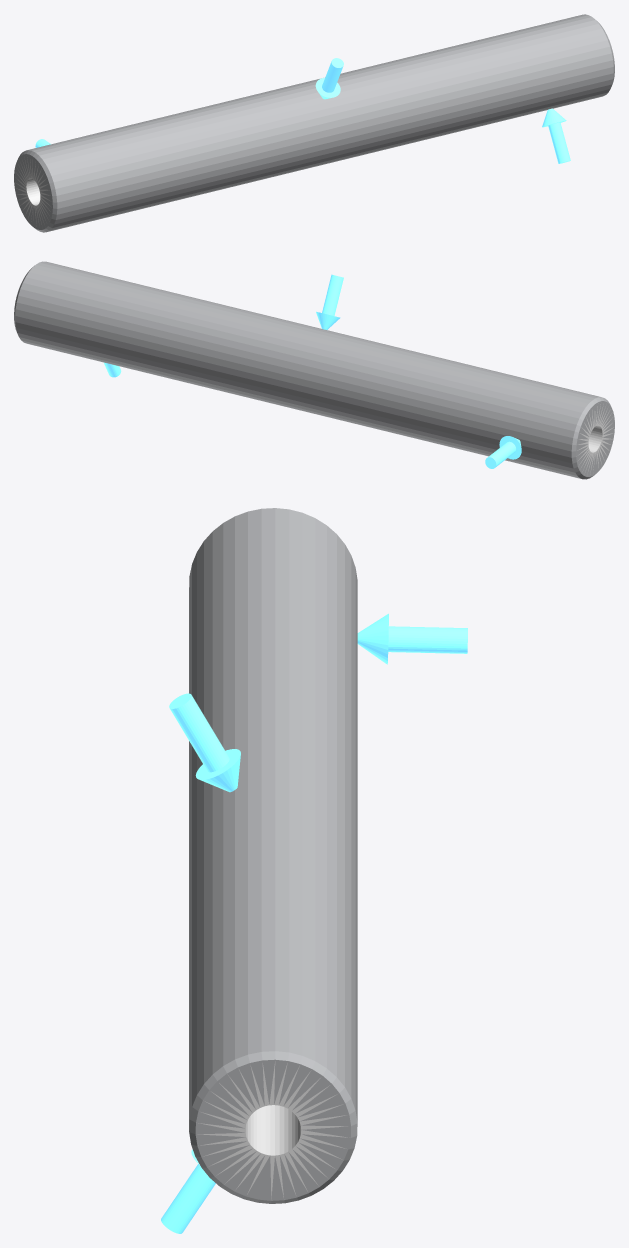
The model's file is hollowshaft.glb.
3 renders of one model, top to bottom at view 1: azimuth 30°, elevation 25°; view 2: azimuth 150°, elevation 25°; view 3: azimuth 270°, elevation 25°, orthographic. The views are drawn at different scales.
Visible parts, largest first — view 1: hollowshaft, ForceArrow_Bearing_40, ForceArrow_Bearing_0; view 2: hollowshaft, ForceArrow_Bearing_0, ForceArrow_Bearing_-40; view 3: hollowshaft, ForceArrow_Bearing_0, ForceArrow_Bearing_-40, ForceArrow_Bearing_40.
Boxes of the visible parts, x1,y1,x2,y2 form: hollowshaft: [14, 14, 614, 232]; ForceArrow_Bearing_40: [542, 108, 570, 163]; ForceArrow_Bearing_0: [315, 58, 343, 99]; hollowshaft: [14, 261, 614, 479]; ForceArrow_Bearing_0: [316, 274, 343, 329]; ForceArrow_Bearing_-40: [485, 436, 521, 468]; hollowshaft: [189, 508, 357, 1203]; ForceArrow_Bearing_0: [169, 693, 240, 792]; ForceArrow_Bearing_-40: [357, 613, 467, 664]; ForceArrow_Bearing_40: [161, 1149, 215, 1233].
Size of the model in its own units: 20 by 5.39 by 4.73.
